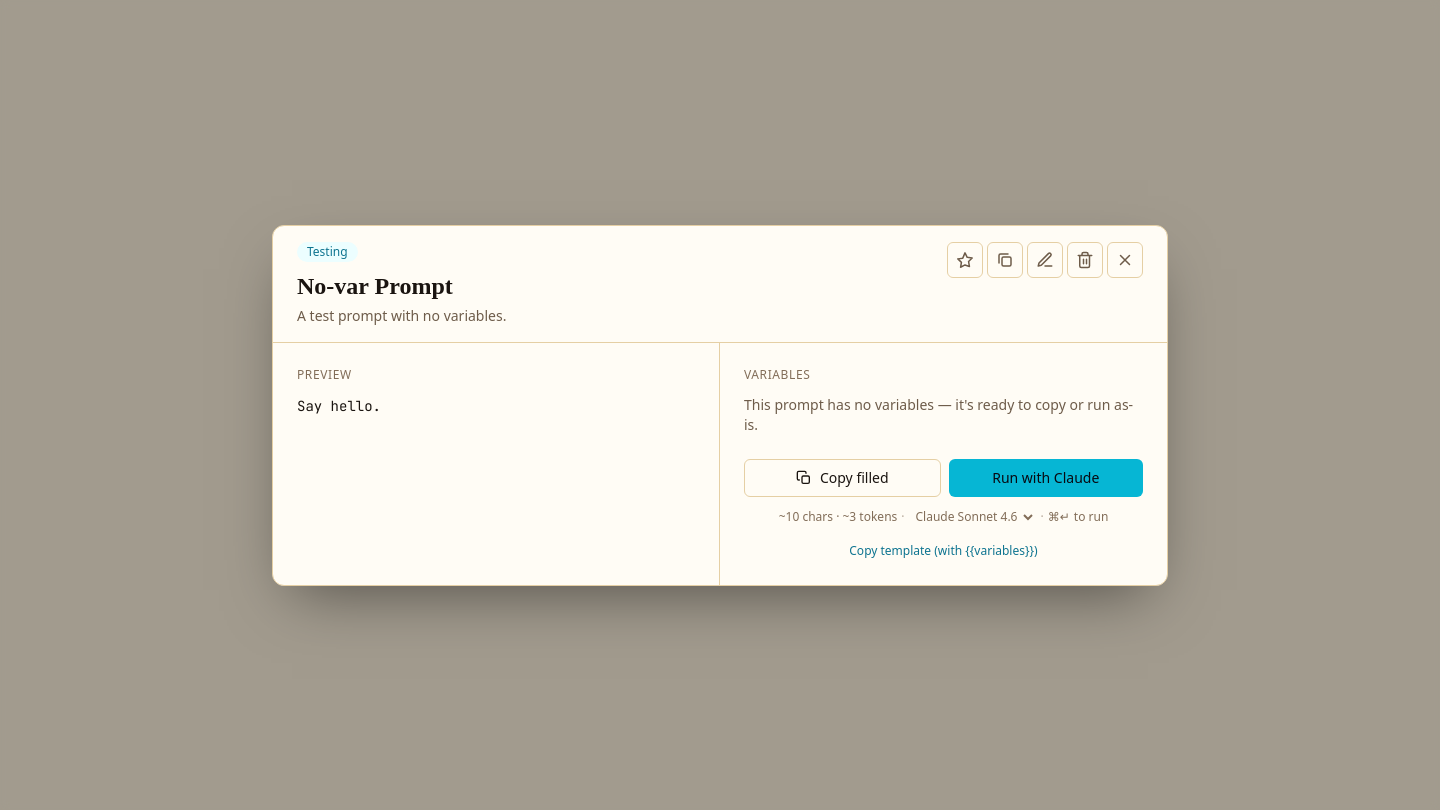
Test: PromptDetail — F3a: overloaded error Retry button › rate-limit error with countdown shows countdown text, not plain Retry
This screenshot has width=1440, height=810.
Click the button "Run with Claude" at coordinates (1046, 478), box [948,458,1143,496]
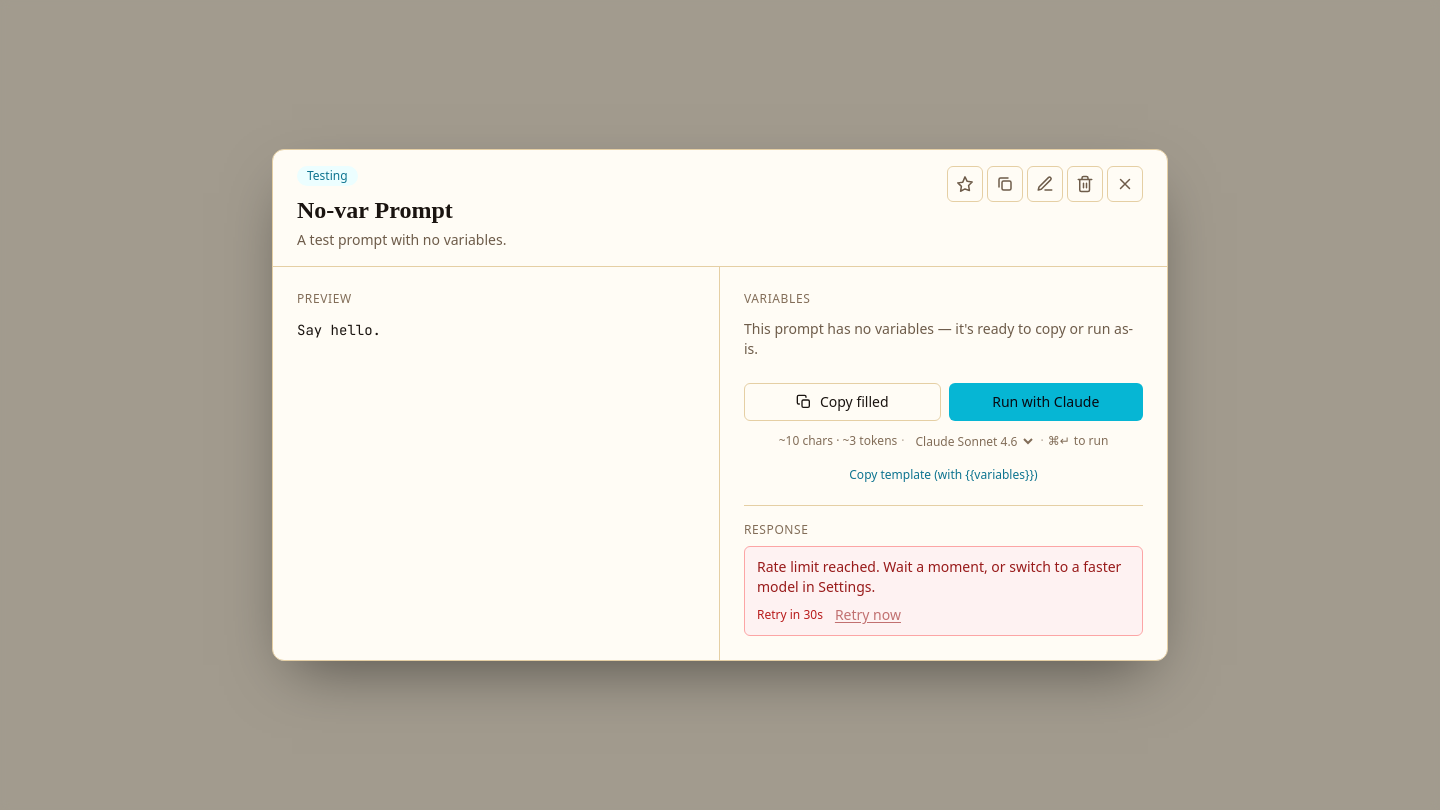
Now the text "Retry in 30s" is shown, box [757,607,823,623]
Now the button "Retry now" is shown, box [835,605,901,625]
